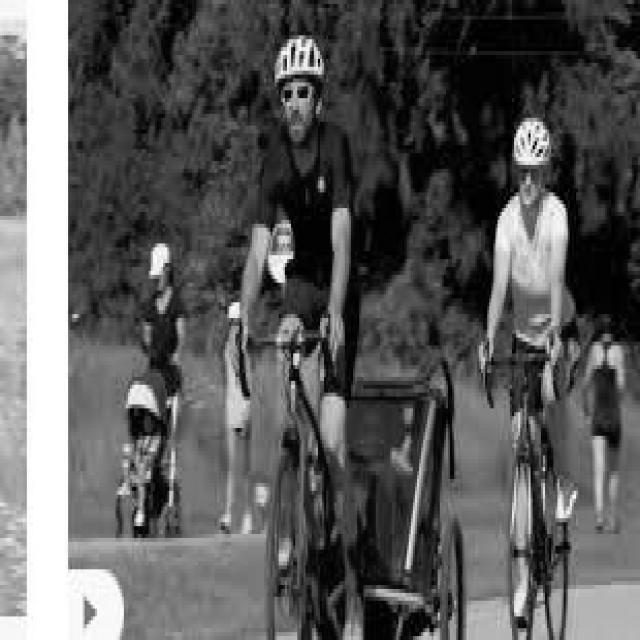bicycle: (258, 306, 347, 636), (497, 350, 570, 640)
